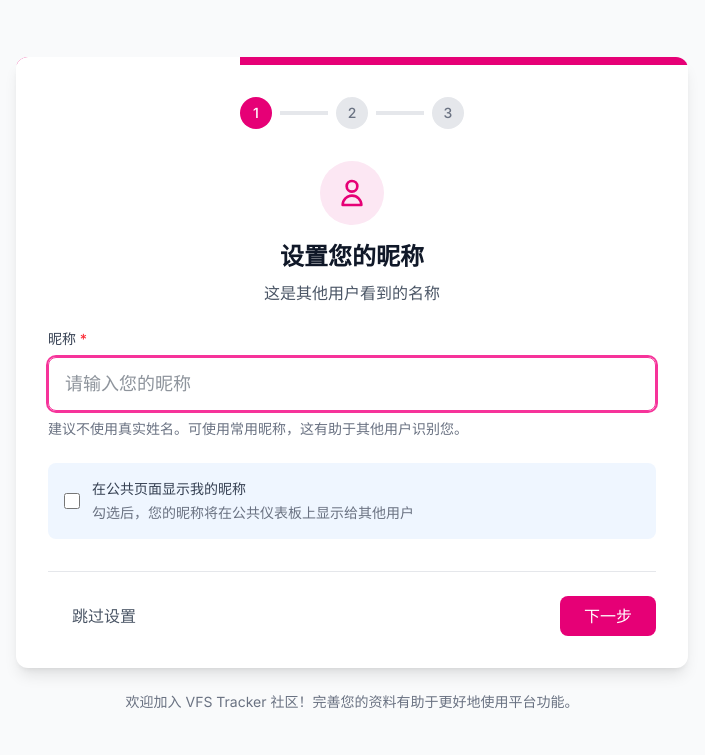
Test case: ProfileSetupWizard 离线资料草稿 › 本地存储失败时留在向导并显示可操作错误
Click the button "跳过设置". click: (104, 616)
box: [48,596,160,636]
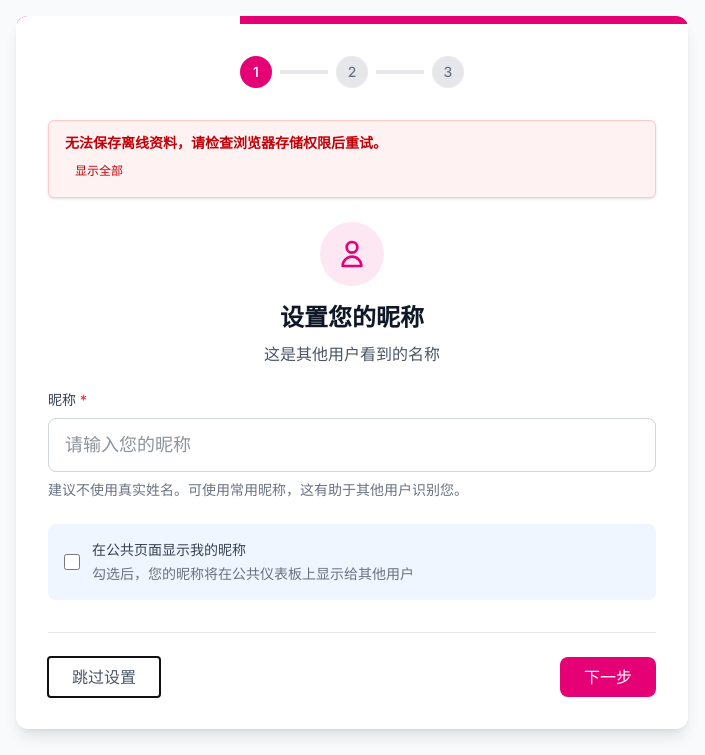
Expected: the text "无法保存离线资料，请检查浏览器存储权限后重试。" is shown, [65,134,387,151]
